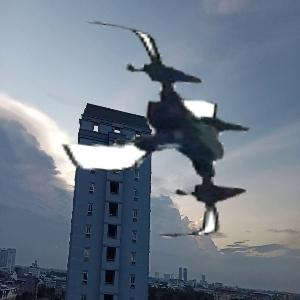drone: (38, 19, 266, 247)
